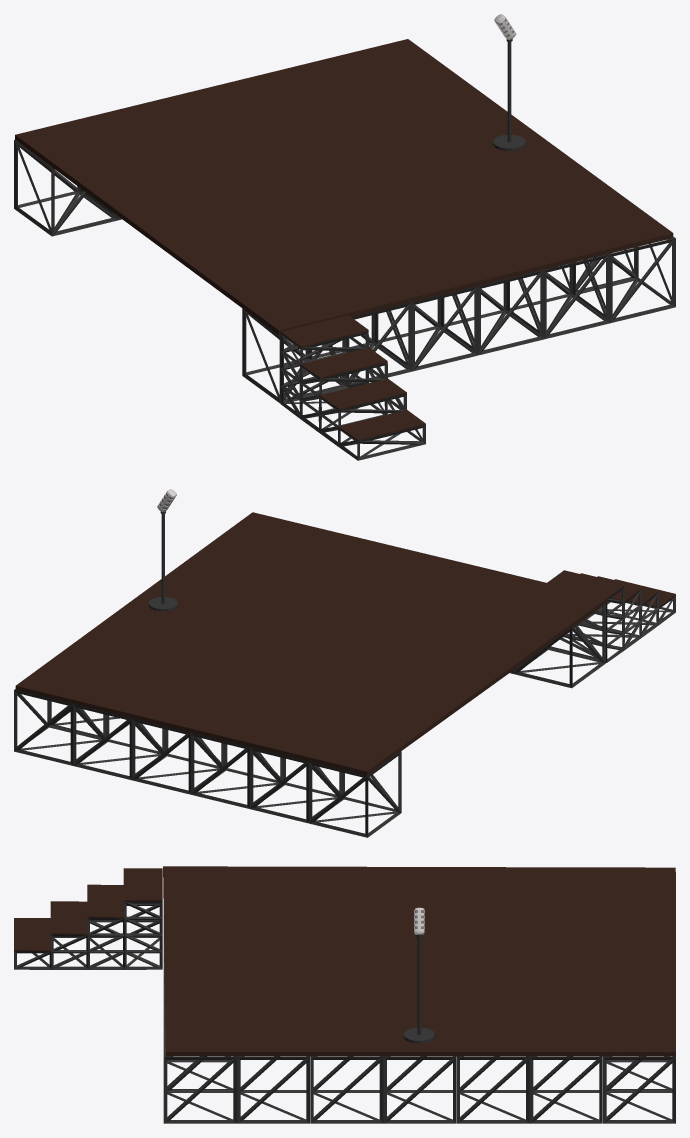
Rendered from Scena.fbx.
3 renders of one model, top to bottom at view 1: azimuth 30°, elevation 25°; view 2: azimuth 150°, elevation 25°; view 3: azimuth 270°, elevation 25°, orthographic. The views are drawn at different scales.
Visible parts, largest first — view 1: scena, microphone; view 2: scena, microphone; view 3: scena, microphone.
Part boxes in pixels (x1,y1,x2,y2): scena: (14,39,675,460); microphone: (493,14,525,150); scena: (14,512,675,837); microphone: (148,489,177,611); scena: (14,866,675,1123); microphone: (403,907,435,1043).
Bounding box in the file's own units: 602 × 297 × 904.
